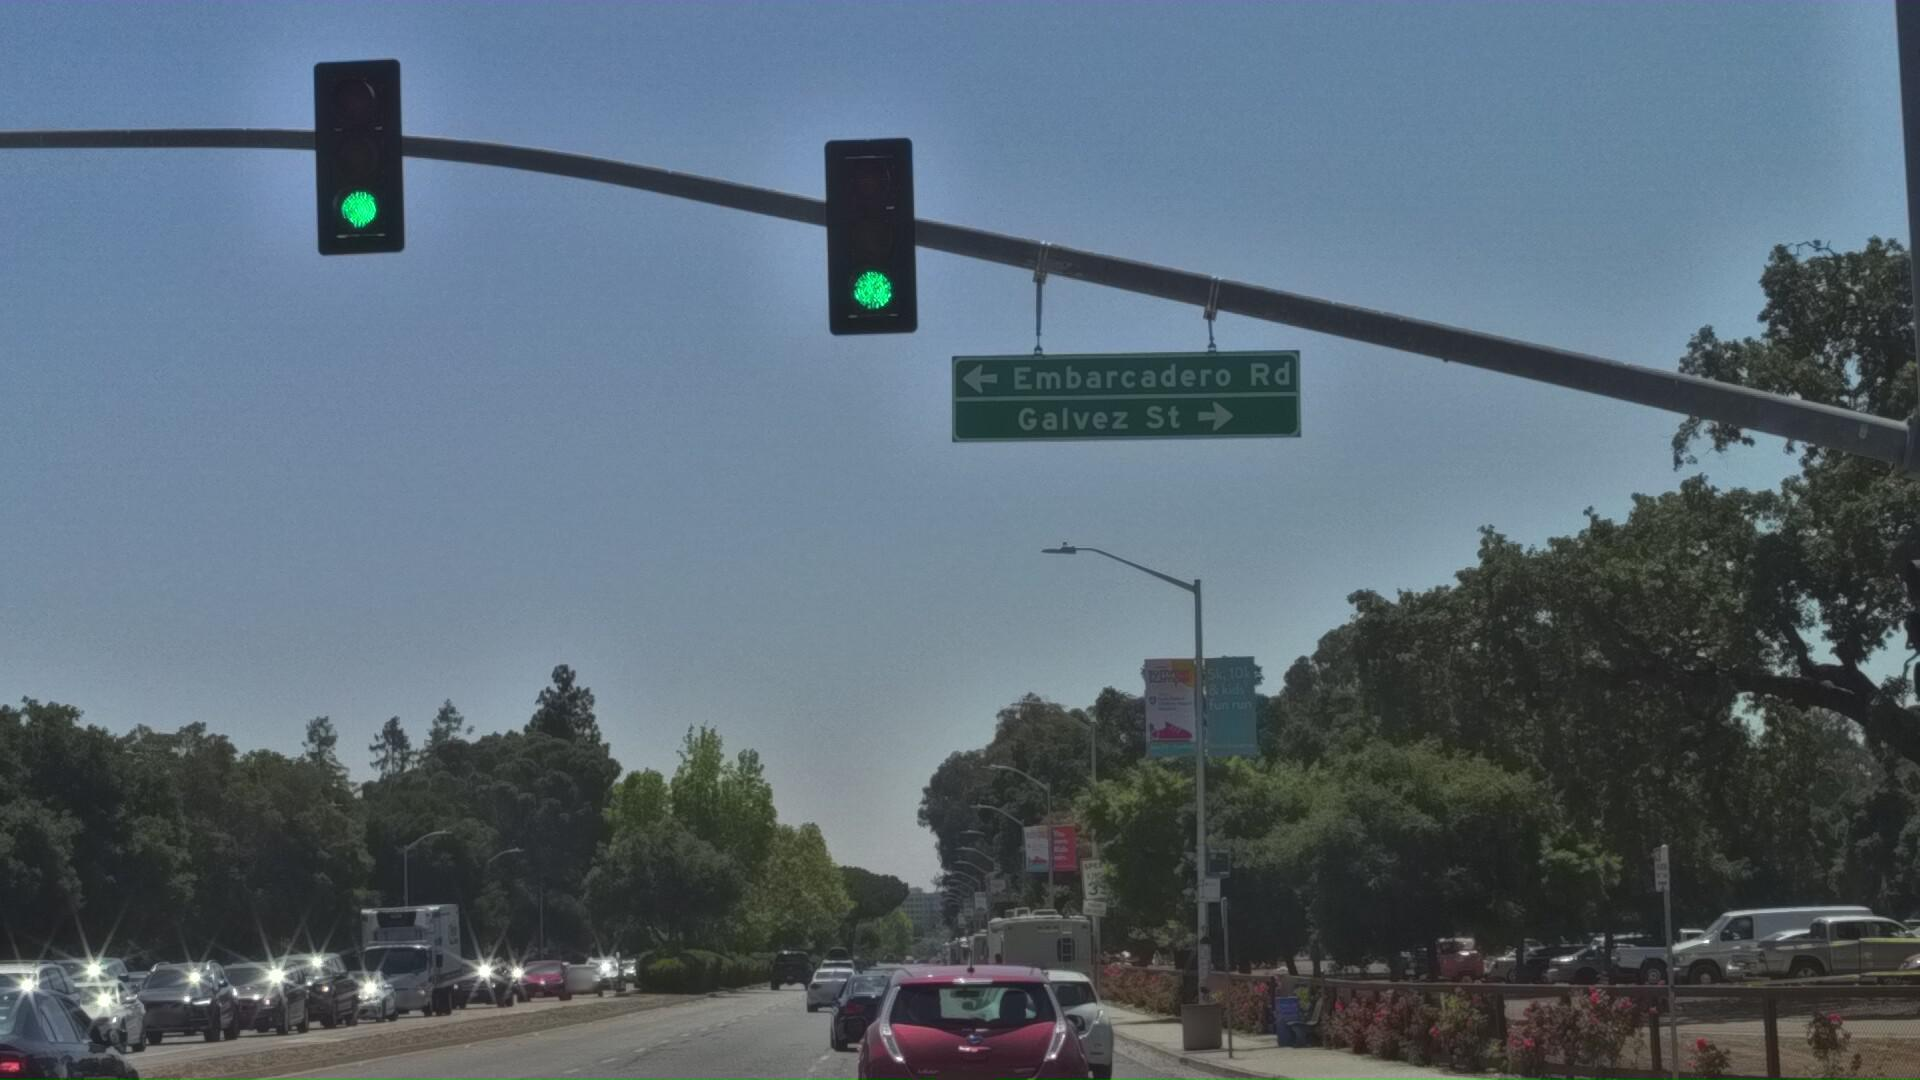car: (843, 978, 1098, 1080), (930, 990, 1131, 1080), (0, 976, 166, 1080), (120, 978, 252, 1069), (20, 1000, 166, 1080), (815, 990, 936, 1080), (0, 1017, 167, 1080), (200, 993, 322, 1077)
